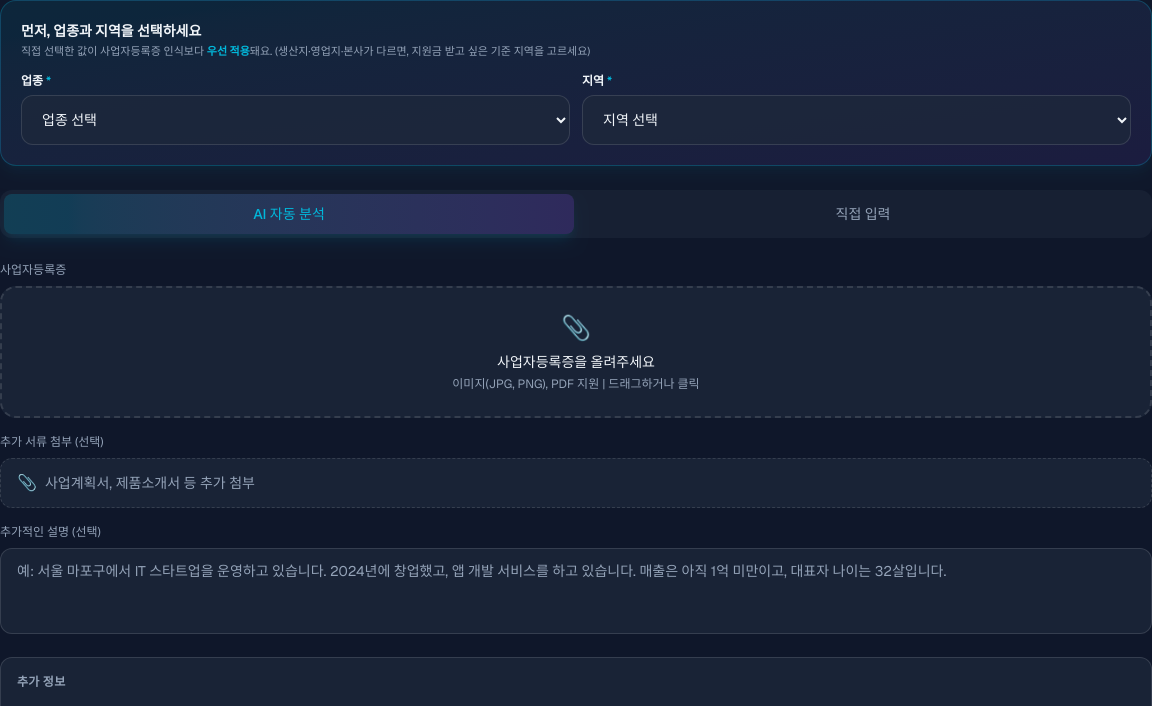
ConditionForm: 탭 전환 › manual → ai 다시 전환 가능
Click the button "직접 입력": coordinates (863, 214) [578, 194, 1148, 234]
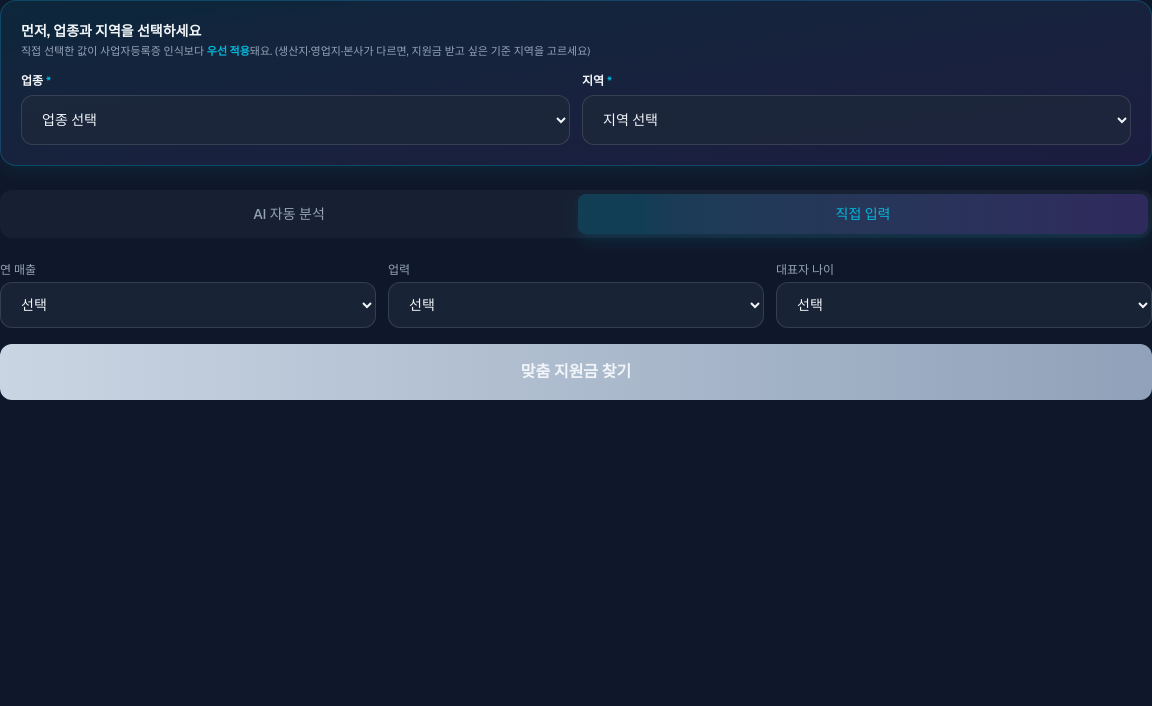
Click the button "AI 자동 분석": coordinates (289, 214) [4, 194, 574, 234]
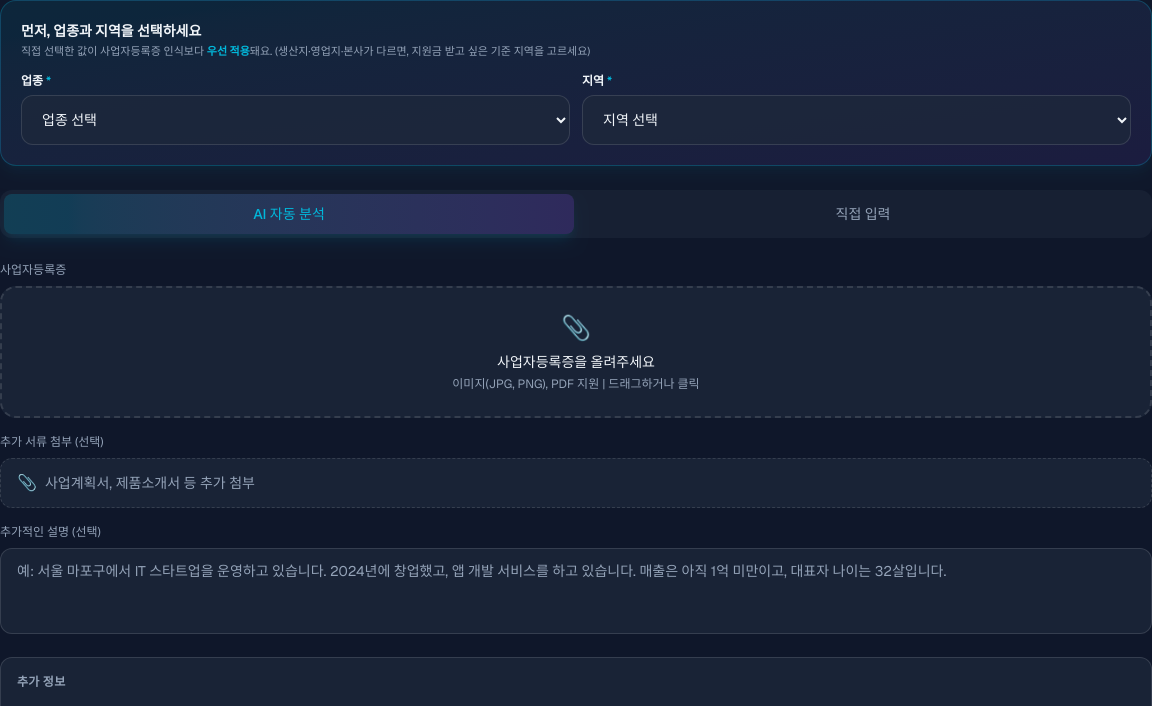
Result: the text "사업자등록증을 올려주세요" is shown at [497, 353, 655, 371]
